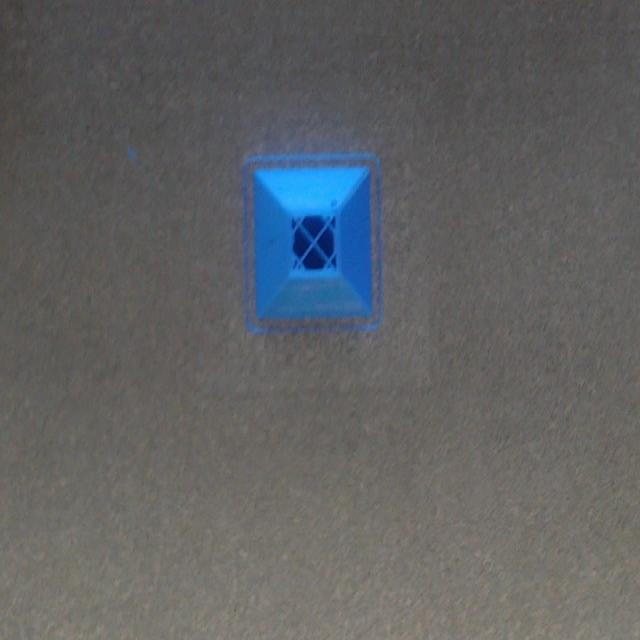mistake: (317, 200, 339, 239)
